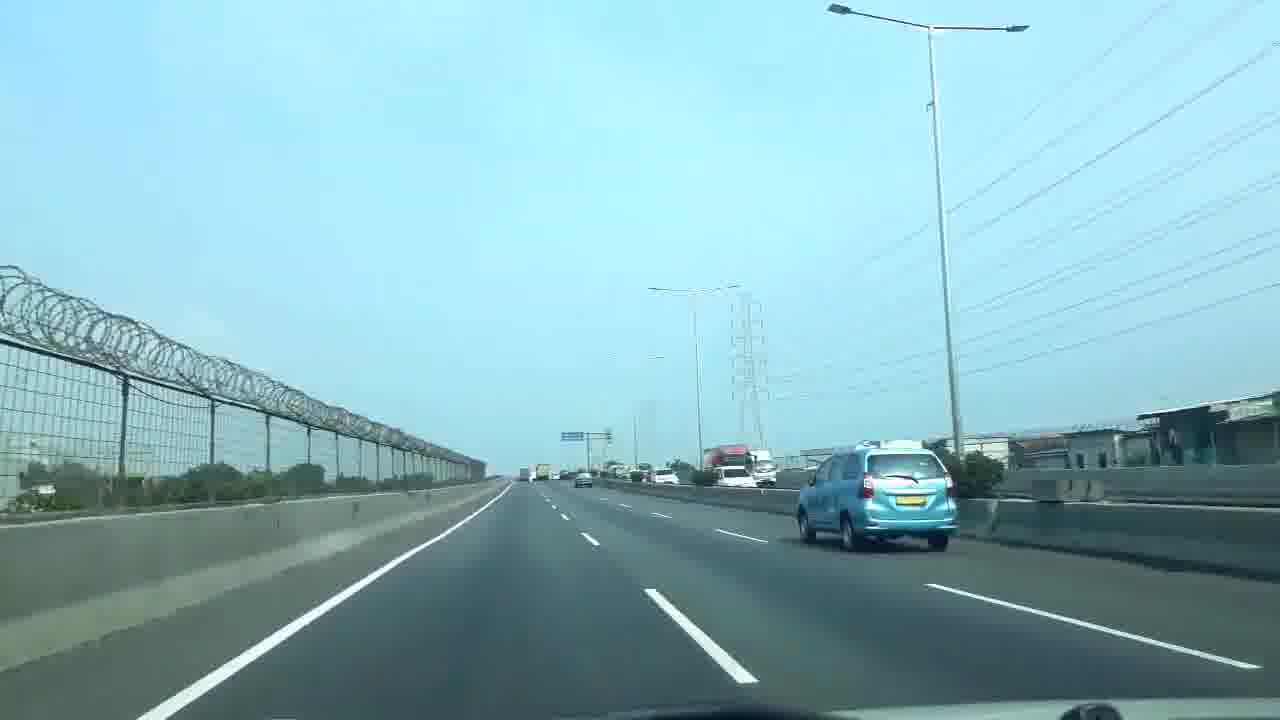plate_positive: (895, 495, 927, 506)
